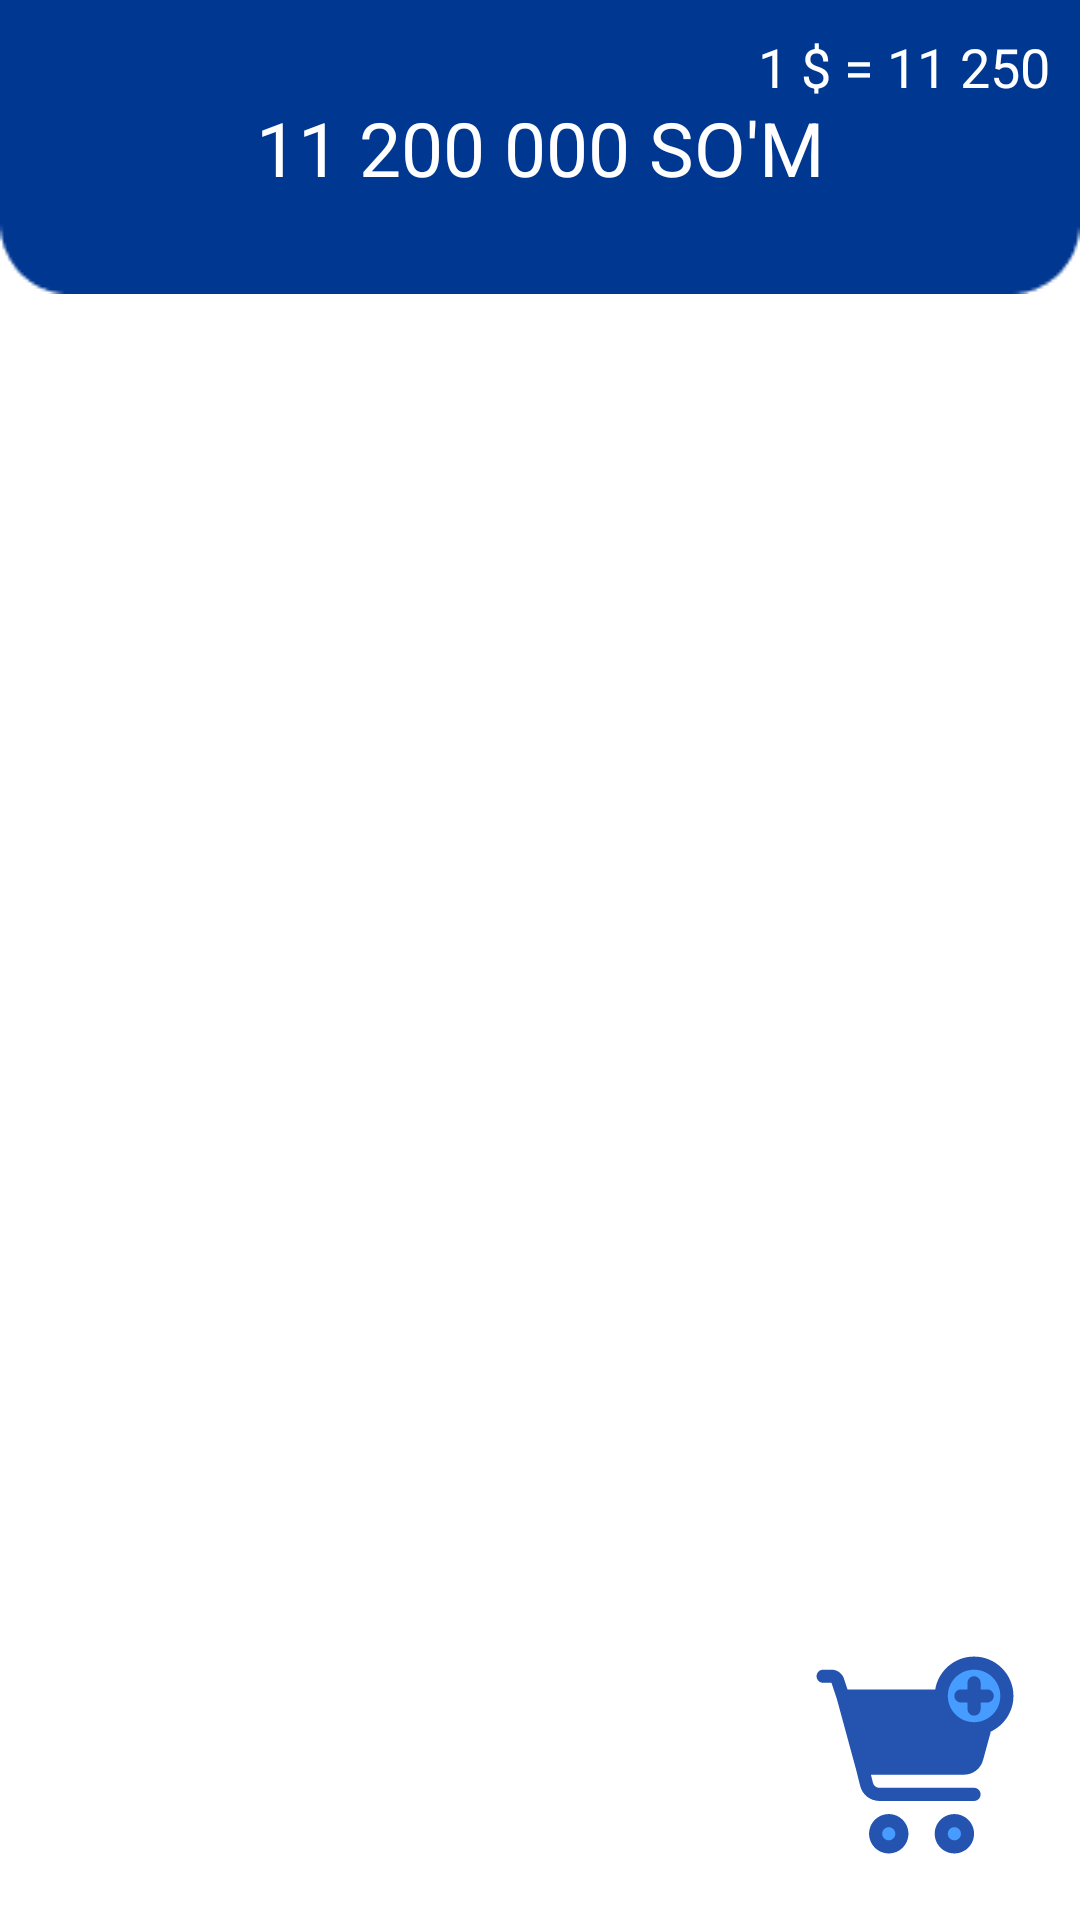

Screen size 1080x1920. Icon name, then its box in pixels as (x1, y1, x2, y2):
buy: (816, 1656, 1014, 1854)
